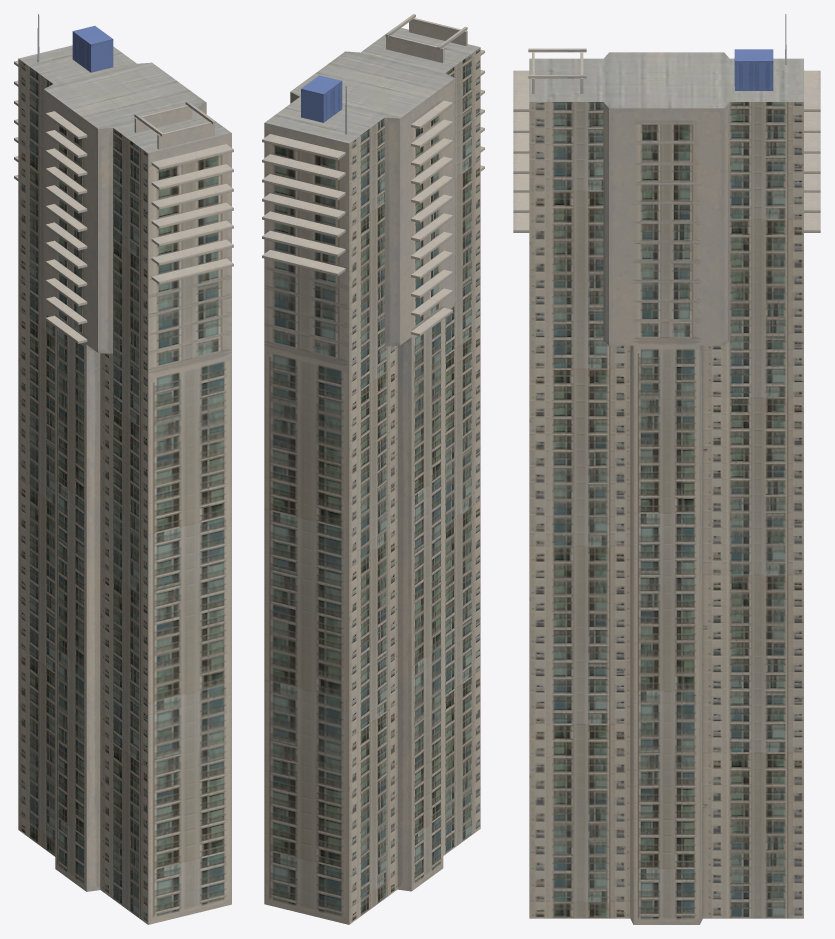
Rendered from MB_Skyscraper_04.fbx.
The picture shows the model from 3 angles, left to right: view 1: azimuth 30°, elevation 25°; view 2: azimuth 150°, elevation 25°; view 3: azimuth 270°, elevation 25°; orthographic projection. The views are drawn at different scales.
Visible parts, largest first — view 1: MB_Skyscraper_04; view 2: MB_Skyscraper_04; view 3: MB_Skyscraper_04.
Part boxes in pixels (<box>): MB_Skyscraper_04: <box>14,14,233,924</box>; MB_Skyscraper_04: <box>262,14,484,924</box>; MB_Skyscraper_04: <box>513,14,820,924</box>.
Size of the model in its own units: 709 by 4728 by 1519.
